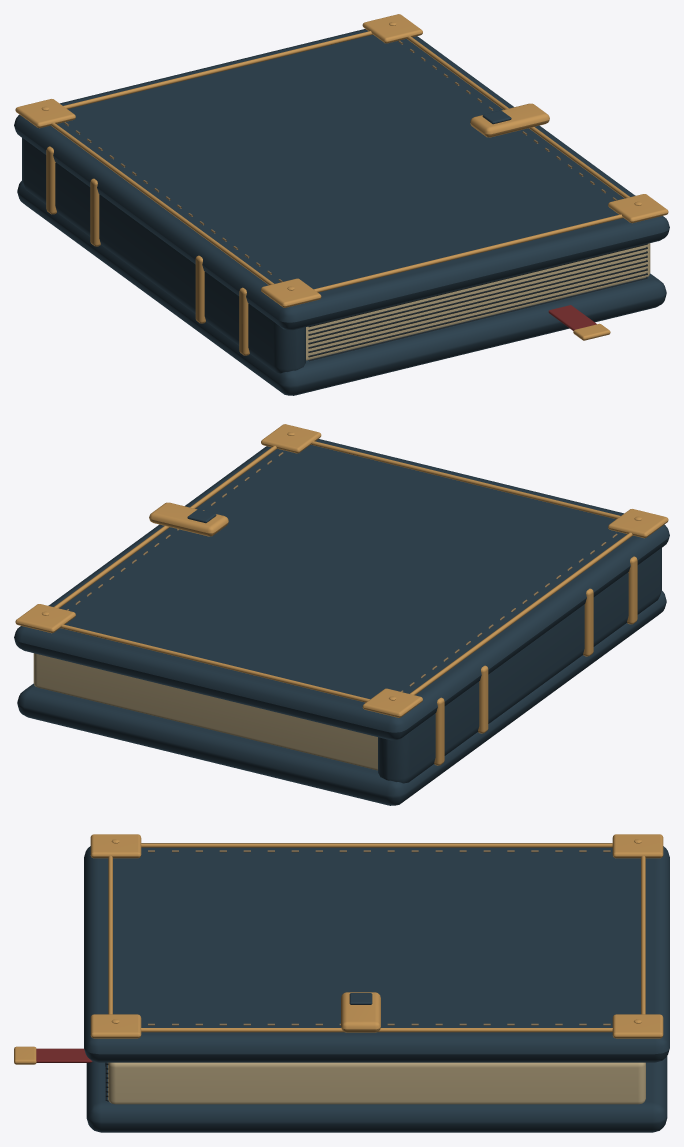
Rendered from story-codex-v1.glb.
3 renders of one model, top to bottom at view 1: azimuth 30°, elevation 25°; view 2: azimuth 150°, elevation 25°; view 3: azimuth 270°, elevation 25°, orthographic. The views are drawn at different scales.
Visible parts, largest first — view 1: CodexInlay, UpperCover, LowerCover, BoundSpine, PageBlock, CoverTooling.002, CoverTooling.003, ClaspArm, CoverTooling, CoverTooling.001, CornerMetal, CornerMetal.002 (+15 smaller); view 2: CodexInlay, UpperCover, LowerCover, BoundSpine, PageBlock, CoverTooling.003, CoverTooling.002, ClaspArm, CoverTooling, CoverTooling.001, CornerMetal.001, CornerMetal.003 (+6 smaller); view 3: CodexInlay, UpperCover, PageBlock, LowerCover, CoverTooling, CoverTooling.001, ClaspArm, CornerMetal.003, CornerMetal.002, CornerMetal.001, CornerMetal, CoverTooling.002 (+2 smaller).
Part boxes in pixels (bbox=[...]): CodexInlay: bbox=[78, 41, 605, 281]; UpperCover: bbox=[14, 29, 669, 330]; LowerCover: bbox=[17, 180, 666, 395]; BoundSpine: bbox=[22, 138, 305, 373]; PageBlock: bbox=[306, 243, 650, 360]; CoverTooling.002: bbox=[314, 214, 623, 292]; CoverTooling.003: bbox=[63, 31, 372, 109]; ClaspArm: bbox=[470, 103, 549, 137]; CoverTooling: bbox=[51, 122, 274, 285]; CoverTooling.001: bbox=[406, 36, 629, 198]; CornerMetal: bbox=[261, 278, 321, 307]; CornerMetal.002: bbox=[608, 194, 668, 223]; CodexInlay: bbox=[78, 451, 605, 691]; UpperCover: bbox=[14, 439, 669, 740]; LowerCover: bbox=[17, 590, 666, 805]; BoundSpine: bbox=[378, 548, 661, 783]; PageBlock: bbox=[33, 653, 377, 770]; CoverTooling.003: bbox=[60, 624, 369, 702]; CoverTooling.002: bbox=[311, 441, 620, 519]; ClaspArm: bbox=[149, 502, 228, 536]; CoverTooling: bbox=[409, 532, 632, 695]; CoverTooling.001: bbox=[54, 446, 277, 608]; CornerMetal.001: bbox=[362, 688, 422, 717]; CornerMetal.003: bbox=[15, 604, 75, 633]; CodexInlay: bbox=[134, 859, 619, 1014]; UpperCover: bbox=[84, 843, 669, 1062]; PageBlock: bbox=[108, 1062, 645, 1104]; LowerCover: bbox=[86, 1056, 667, 1132]; CoverTooling: bbox=[141, 843, 612, 847]; CoverTooling.001: bbox=[141, 1028, 612, 1032]; ClaspArm: bbox=[341, 992, 380, 1032]; CornerMetal.003: bbox=[612, 1014, 663, 1038]; CornerMetal.002: bbox=[90, 1014, 141, 1038]; CornerMetal.001: bbox=[612, 834, 663, 858]; CornerMetal: bbox=[90, 834, 141, 858]; CoverTooling.002: bbox=[108, 855, 112, 1014].
Bounding box in the file's own units: 1.81 × 0.482 × 2.46.
